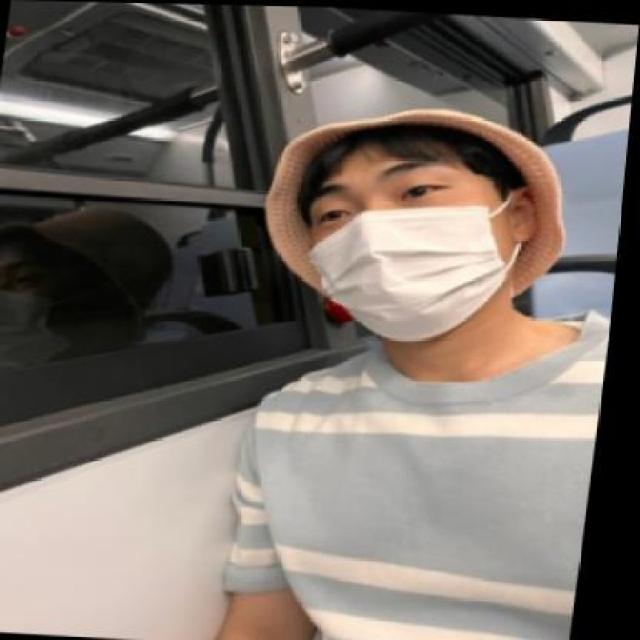hat: (269, 105, 569, 298)
